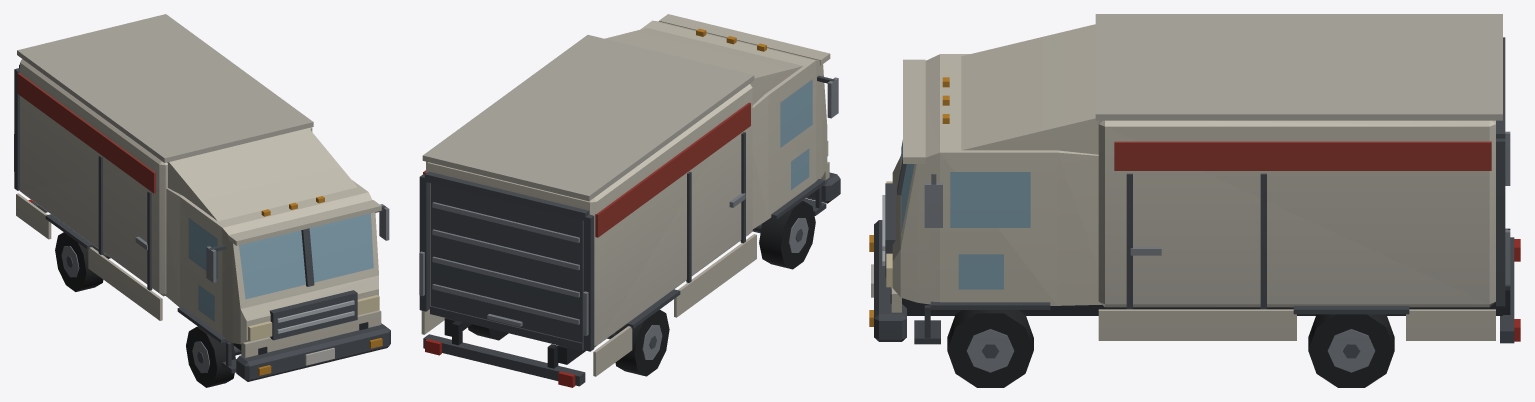
Rendered from box_truck_01.glb.
3 renders of one model, left to right at view 1: azimuth 30°, elevation 25°; view 2: azimuth 150°, elevation 25°; view 3: azimuth 270°, elevation 25°, orthographic. The views are drawn at different scales.
Parts seen in each view (by area): view 1: box_truck_01; view 2: box_truck_01; view 3: box_truck_01.
Boxes of the visible parts, bbox=[...] form: box_truck_01: bbox=[14, 14, 390, 387]; box_truck_01: bbox=[419, 14, 840, 387]; box_truck_01: bbox=[869, 14, 1520, 387].
Bounding box in the file's own units: 1.69 × 1.81 × 3.92.
